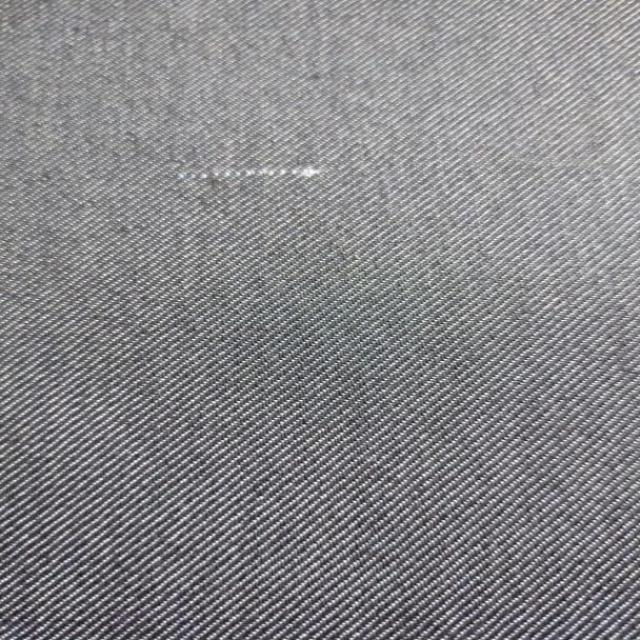Knot: (175, 166, 324, 181)
